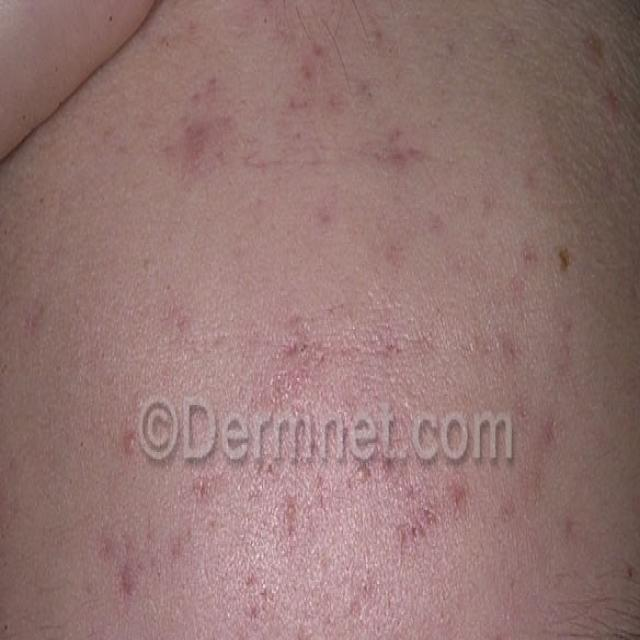Acne: (51, 320, 592, 640), (156, 68, 465, 224), (505, 146, 596, 301), (566, 5, 640, 140), (8, 265, 48, 340)
